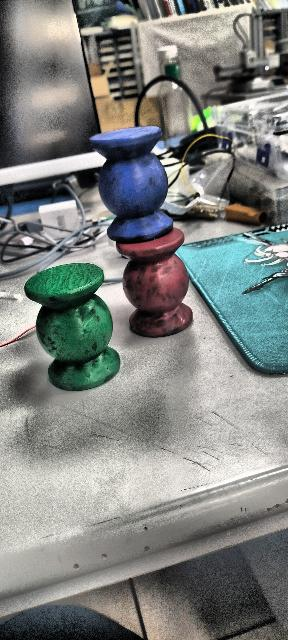blue: (88, 125, 174, 243)
green: (26, 264, 121, 391)
red: (115, 227, 192, 340)
